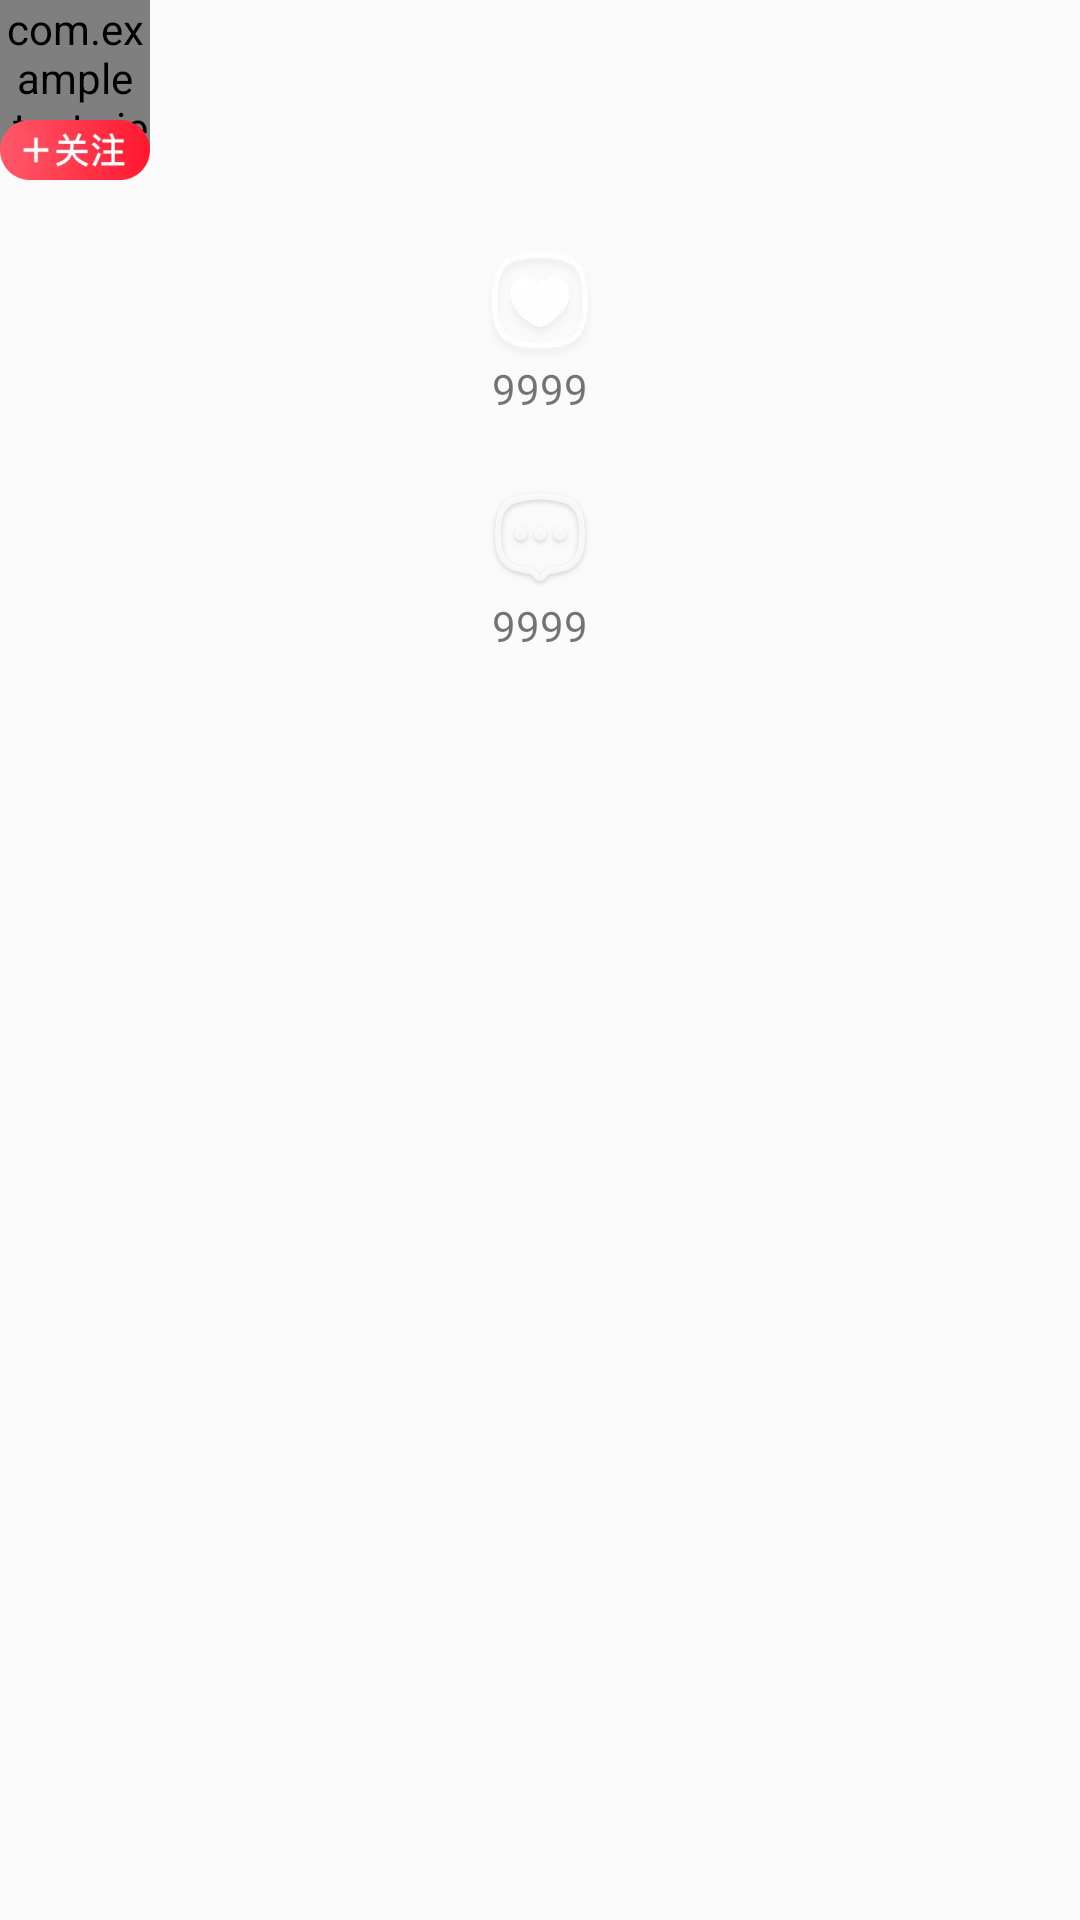

Screen size 1080×1920. Icon name, then its center in pixels as [x,y]:
video comment: [540,541]
